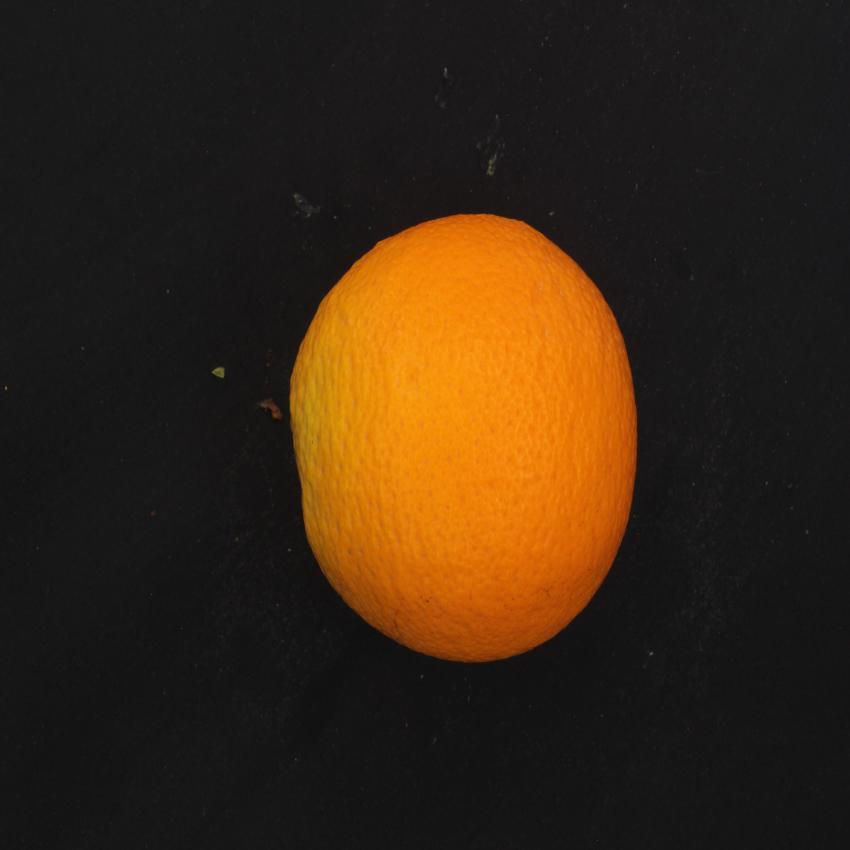Buen estado: (250, 191, 644, 676)
